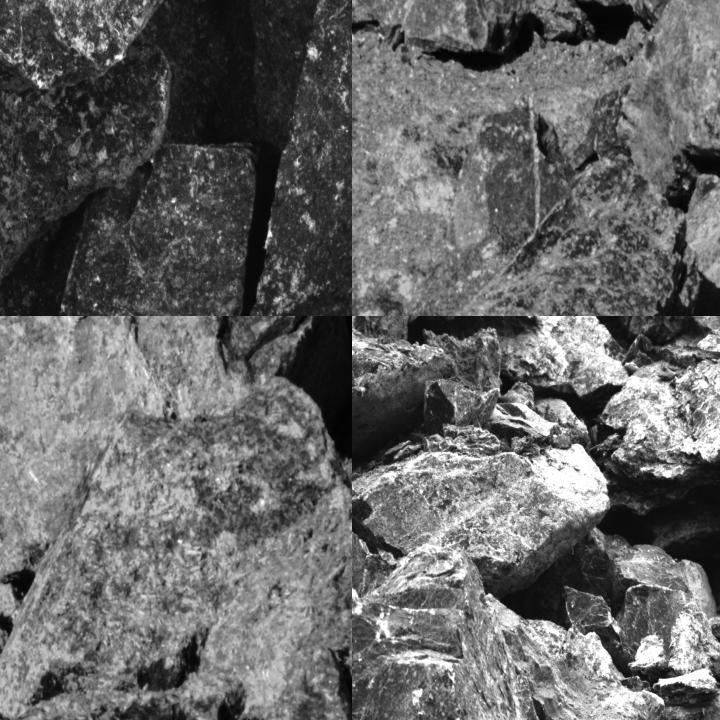stone: (0, 374, 351, 719), (352, 176, 707, 315), (0, 31, 168, 314), (352, 443, 612, 602), (352, 541, 577, 719), (48, 140, 255, 315), (237, 0, 351, 315), (0, 0, 351, 88), (486, 593, 666, 719), (610, 0, 719, 194), (352, 316, 446, 461), (352, 0, 530, 48), (545, 0, 719, 42), (667, 602, 719, 680), (613, 316, 706, 344)
